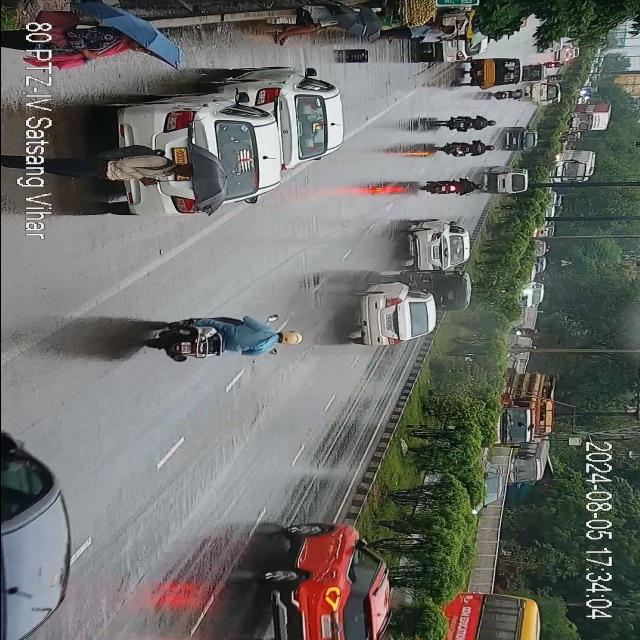2-wheelers: (140, 314, 298, 366), (418, 178, 484, 198), (440, 137, 496, 160), (436, 116, 496, 136)
auto: (403, 272, 469, 308), (464, 58, 520, 92)
bus: (432, 588, 558, 640), (504, 443, 546, 486)
car: (0, 415, 77, 637), (260, 523, 400, 640), (141, 92, 277, 204), (236, 72, 342, 164), (348, 276, 435, 347), (399, 220, 467, 277), (416, 22, 487, 62), (482, 165, 526, 198), (526, 80, 560, 108), (504, 126, 537, 152)
pedestrian: (50, 149, 221, 184), (52, 31, 154, 65), (299, 7, 386, 44), (380, 26, 456, 40), (411, 34, 471, 46)
truck: (486, 363, 548, 448)
